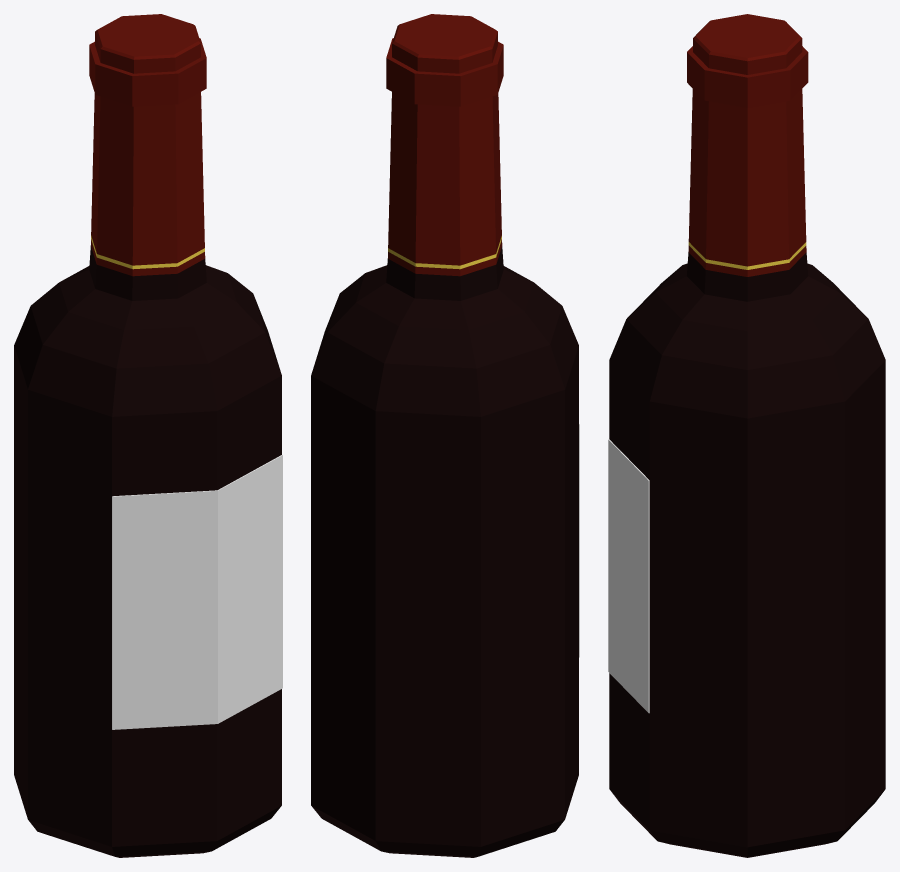
Rendered from bottleOfWine.obj.
3 renders of one model, left to right at view 1: azimuth 30°, elevation 25°; view 2: azimuth 150°, elevation 25°; view 3: azimuth 270°, elevation 25°, orthographic.
Bounding box in the file's own units: 1.38 × 4.26 × 1.38.
